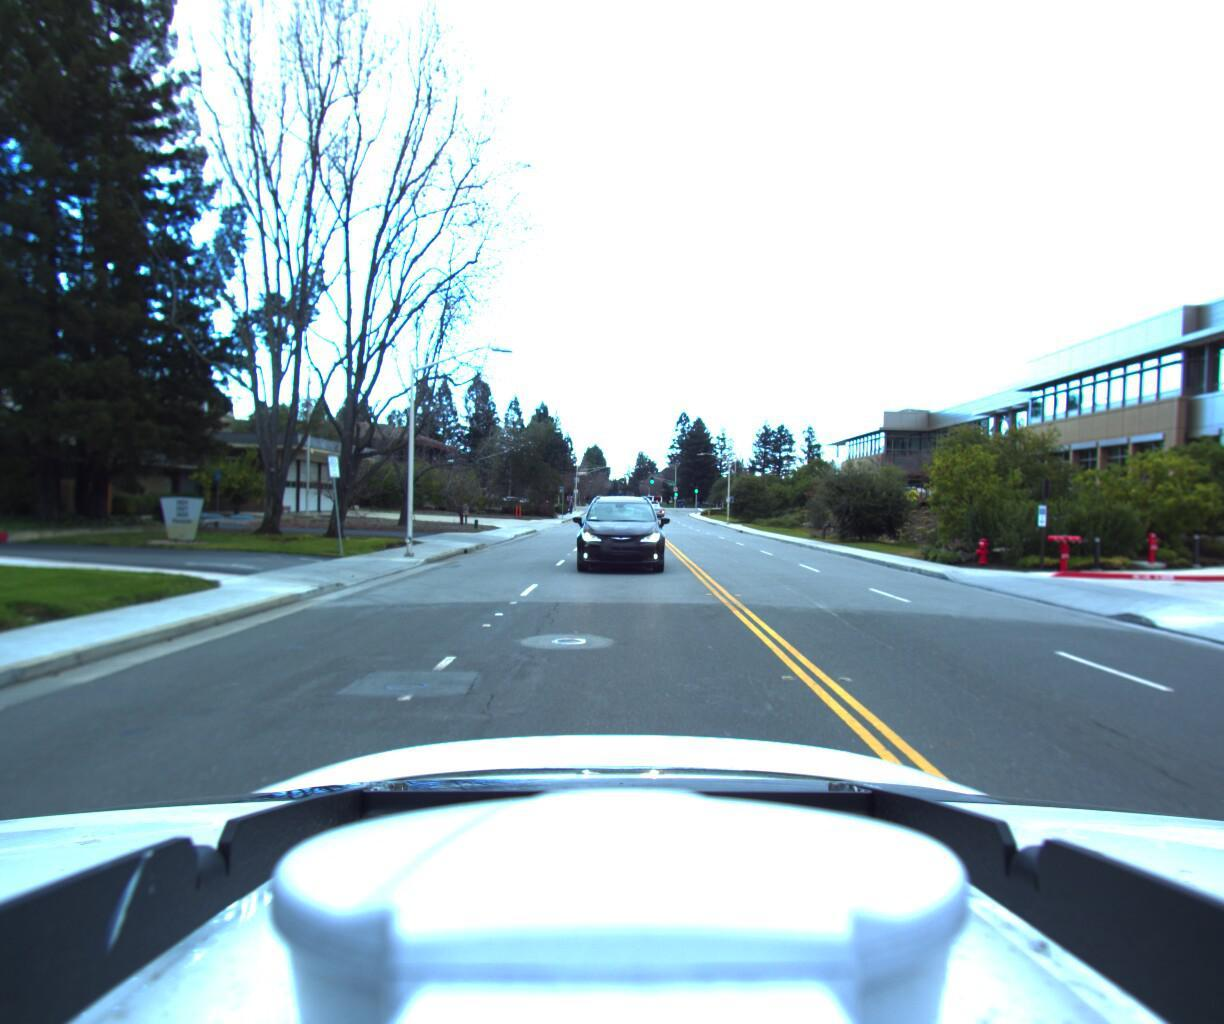car: (570, 488, 667, 580), (645, 501, 665, 517)
